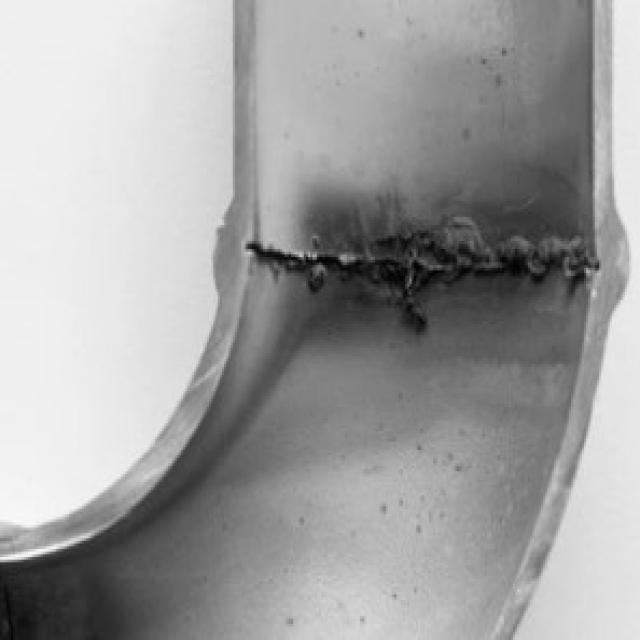Bad Weld: (242, 187, 592, 332)
